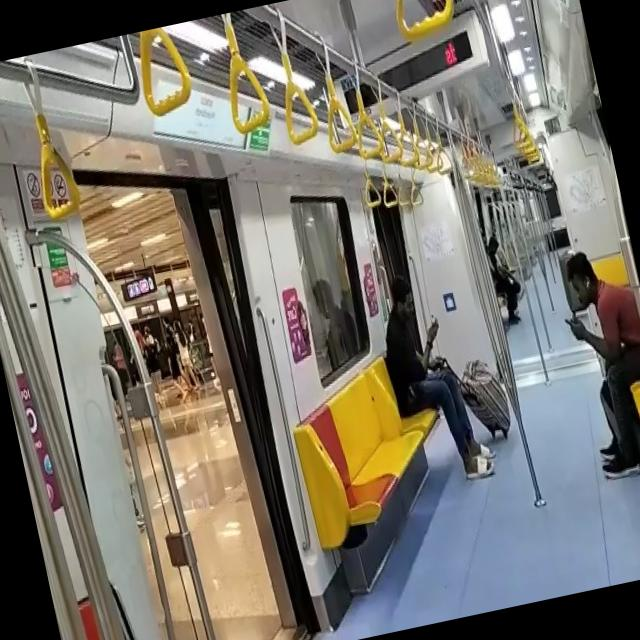bus-door: (186, 184, 315, 630)
